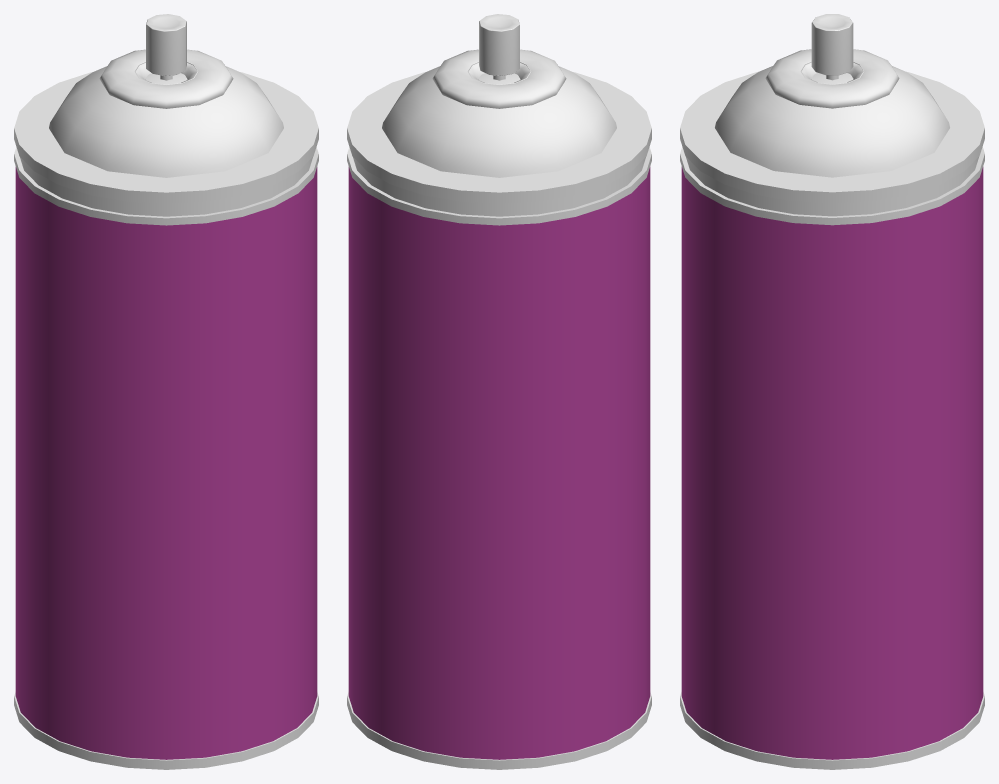
Rendered from can.glb.
3 views of the same model, side by side, from view 1: azimuth 30°, elevation 25°; view 2: azimuth 150°, elevation 25°; view 3: azimuth 270°, elevation 25° (orthographic).
Parts seen in each view (by area): view 1: Can_body, tip; view 2: Can_body, tip; view 3: Can_body, tip.
Part boxes in pixels (box(x1,y1,x2,y2)): Can_body: box(14, 49, 318, 769); tip: box(146, 14, 186, 75); Can_body: box(347, 49, 651, 769); tip: box(479, 14, 519, 75); Can_body: box(680, 49, 984, 769); tip: box(811, 14, 853, 75).
Size of the model in its own units: 0.0206 by 0.0512 by 0.0206.
